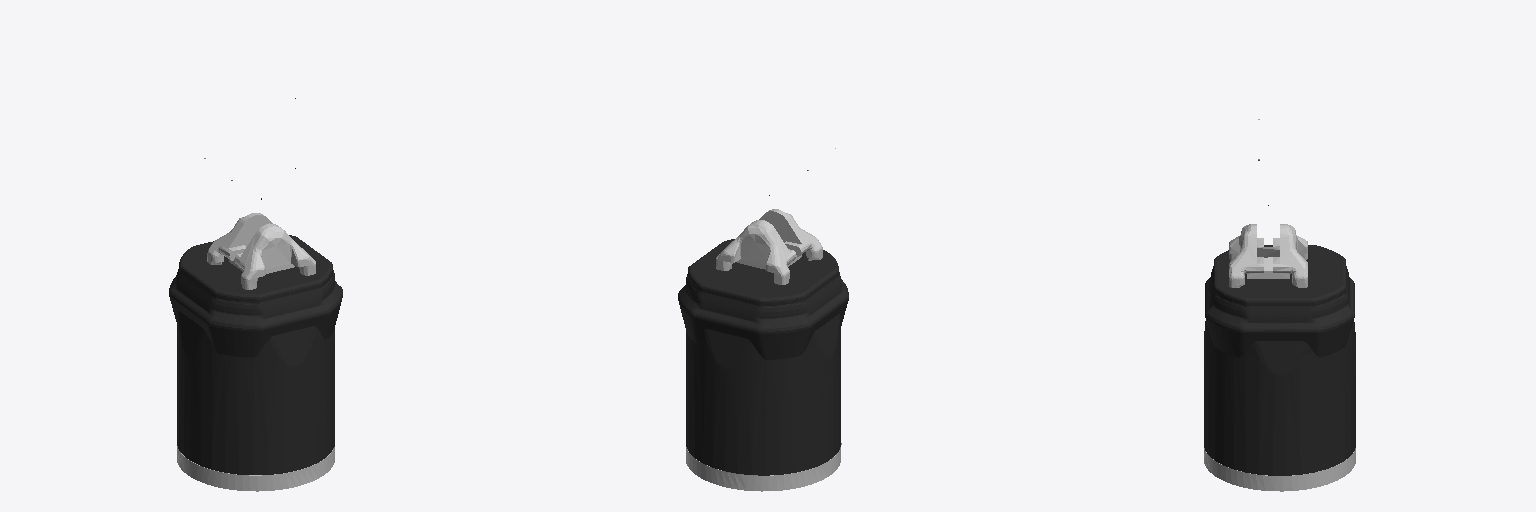
--- What the picture shows (computed from the rendered views, not written in the file) ---
The picture shows the robot from 3 angles, left to right: view 1: azimuth 30°, elevation 25°; view 2: azimuth 150°, elevation 25°; view 3: azimuth 270°, elevation 25°; orthographic projection.
Model shadowhand_motor with 33 links and 32 joints (24 revolute, 8 fixed), rooted at world, posed every joint at zero.
Links seen in each view (by area): view 1: lh_forearm; view 2: lh_forearm; view 3: lh_forearm.
Boxes of the visible links, x1,y1,x2,y2 form: lh_forearm: (169, 213, 342, 491); lh_forearm: (678, 209, 848, 491); lh_forearm: (1204, 224, 1355, 491).
Size in the robot's own frame: 0.1513 by 0.1351 by 0.4162 metres.
Meshes: 11 distinct files referenced, 23 mesh visuals loaded (11 Collada DAE).

URDF robot description (shadowhand_motor):
<?xml version="1.0" ?>
<!-- =================================================================================== -->
<!-- |    This document was autogenerated by xacro from [local-path]/projects/shadow/mujoco_left_hand/base/src/sr_common/sr_description/robots/shadowhand_left_motor_plus.urdf.xacro | -->
<!-- |    EDITING THIS FILE BY HAND IS NOT RECOMMENDED                                 | -->
<!-- =================================================================================== -->
<robot name="shadowhand_motor" xmlns:body="http://playerstage.sourceforge.net/gazebo/xmlschema/#body" xmlns:controller="http://playerstage.sourceforge.net/gazebo/xmlschema/#controller" xmlns:geom="http://playerstage.sourceforge.net/gazebo/xmlschema/#geom" xmlns:interface="http://playerstage.sourceforge.net/gazebo/xmlschema/#interface" xmlns:joint="http://playerstage.sourceforge.net/gazebo/xmlschema/#slider" xmlns:sensor="http://playerstage.sourceforge.net/gazebo/xmlschema/#sensor" xmlns:xacro="http://www.ros.org/wiki/xacro">
  <material name="Blue">
    <color rgba="0.0 0.0 0.8 1.0"/>
  </material>
  <material name="Green">
    <color rgba="0.0 0.8 0.0 1.0"/>
  </material>
  <material name="BiotacGreen">
    <color rgba="0.31 0.85 0.42 1.0"/>
  </material>
  <material name="Grey">
    <color rgba="0.2 0.2 0.2 1.0"/>
  </material>
  <material name="LightGrey">
    <color rgba="0.6 0.6 0.6 1.0"/>
  </material>
  <material name="Red">
    <color rgba="0.8 0.0 0.0 1.0"/>
  </material>
  <material name="White">
    <color rgba="1.0 1.0 1.0 1.0"/>
  </material>
  <gazebo>
    <plugin filename="libgazebo_ros_control.so" name="gazebo_ros_control">
      <robotSimType>sr_gazebo_sim/SrGazeboHWSim</robotSimType>
    </plugin>
  </gazebo>
  <!-- hand with cylindrical base drifts in gazebo, attach it to the world -->
  <link name="world"/>
  <joint name="lh_world_joint" type="fixed">
    <parent link="world"/>
    <child link="lh_forearm"/>
    <origin rpy="0.0 0.0 0.0" xyz="0.0 0.0 0.0"/>
  </joint>
  <link name="lh_forearm">
    <inertial>
      <origin rpy="0 0 0" xyz="0 0 0.09"/>
      <mass value="3.0"/>
      <inertia ixx="0.0138" ixy="0.0" ixz="0.0" iyy="0.0138" iyz="0.0" izz="0.00744"/>
    </inertial>
    <visual>
      <origin rpy="0 0 0" xyz="0 0 0"/>
      <geometry name="lh_forearm_visual">
        <mesh filename="package://sr_description/hand/model/forearm_visual_plus.dae" scale="0.001 0.001 0.001"/>
      </geometry>
      <material name="light_grey"/>
    </visual>
    <collision>
      <origin rpy="0 0 0" xyz="0 0 0"/>
      <geometry name="lh_forearm_collision">
        <mesh filename="package://sr_description/hand/model/forearm_collision_plus.stl" scale="0.001 0.001 0.001"/>
      </geometry>
      <material name="dark_grey">
        <color rgba="0.21961 0.21961 0.21961 1.0"/>
      </material>
    </collision>
    <!-- wrist mount -->
    <collision>
      <origin rpy="0 0.78 0" xyz="0 -0.01 0.181"/>
      <geometry>
        <box size="0.07 0.07 0.07"/>
      </geometry>
    </collision>
  </link>
  <gazebo reference="lh_forearm">
    <selfCollide>false</selfCollide>
  </gazebo>
  <link name="lh_wrist">
    <inertial>
      <origin rpy="0 0 0" xyz="0 0 0.029"/>
      <mass value="0.1"/>
      <inertia ixx="0.000035" ixy="0.0" ixz="0.0" iyy="0.000064" iyz="0.0" izz="0.0000438"/>
    </inertial>
    <visual>
      <origin rpy="0 0 0" xyz="0 0 0"/>
      <geometry name="lh_wrist_visual">
        <mesh filename="package://sr_description/hand/model/wrist.dae" scale="-0.001 0.001 0.001"/>
      </geometry>
      <material name="LightGrey"/>
    </visual>
    <collision>
      <origin rpy="1.5708 1.5708 0" xyz="0 0 0"/>
      <geometry name="lh_wrist_collision_geom">
        <cylinder length="0.030" radius="0.0135"/>
      </geometry>
    </collision>
    <collision>
      <origin rpy="0 1.5708 0" xyz="0.026 0 0.034"/>
      <geometry>
        <cylinder length="0.010" radius="0.011"/>
      </geometry>
    </collision>
    <collision>
      <origin rpy="0 1.5708 0" xyz="-0.031 0 0.034"/>
      <geometry>
        <cylinder length="0.010" radius="0.011"/>
      </geometry>
    </collision>
    <collision>
      <origin rpy="0 -0.7854 0" xyz="0.021 0 0.011"/>
      <geometry>
        <box size="0.027 0.018 0.010"/>
      </geometry>
    </collision>
    <collision>
      <origin rpy="0 0.7854 0" xyz="-0.026 0 0.010"/>
      <geometry>
        <box size="0.027 0.018 0.010"/>
      </geometry>
    </collision>
  </link>
  <gazebo reference="lh_wrist">
    <material>Gazebo/White</material>
    <selfCollide>false</selfCollide>
  </gazebo>
  <joint name="lh_WRJ2" type="revolute">
    <parent link="lh_forearm"/>
    <child link="lh_wrist"/>
    <origin rpy="0 0 0" xyz="0 -0.010 0.213"/>
    <axis xyz="0 -1.0 0"/>
    <limit effort="10.0" lower="-0.523598775598" upper="0.174532925199" velocity="2.0"/>
    <dynamics damping="0.1"/>
  </joint>
  <gazebo reference="lh_WRJ2">
    <provideFeedback>1</provideFeedback>
    <implicitSpringDamper>1</implicitSpringDamper>
  </gazebo>
  <transmission name="lh_wrist_transmission">
    <type>sr_mechanism_model/SimpleTransmission</type>
    <actuator name="lh_WRJ2">
      <mechanicalReduction>1</mechanicalReduction>
    </actuator>
    <joint name="lh_WRJ2">
      <hardwareInterface>hardware_interface/EffortJointInterface</hardwareInterface>
    </joint>
  </transmission>
  <link name="lh_palm">
    <inertial>
      <origin rpy="0 0 0" xyz="0 0 0.035"/>
      <mass value="0.3"/>
      <inertia ixx="0.0003581" ixy="0.0" ixz="0.0" iyy="0.0005287" iyz="0.0" izz="0.000191"/>
    </inertial>
    <visual>
      <origin rpy="0 0 0" xyz="0 0 0"/>
      <geometry name="lh_palm_visual">
        <mesh filename="package://sr_description/hand/model/palm.dae" scale="-0.001 0.001 0.001"/>
      </geometry>
      <material name="Grey"/>
    </visual>
    <collision>
      <origin rpy="0 0 0" xyz="-0.011 0.0085 0.038"/>
      <geometry name="lh_palm_collision_geom">
        <box size="0.062 0.007 0.098"/>
      </geometry>
    </collision>
    <collision>
      <origin rpy="0 0 0" xyz="0.002 -0.0035 0.038"/>
      <geometry>
        <box size="0.036 0.017 0.098"/>
      </geometry>
    </collision>
    <!-- palm complement below first finger -->
    <collision>
      <origin rpy="0 0 0" xyz="-0.029 -0.0035 0.082"/>
      <geometry>
        <box size="0.026 0.017 0.010"/>
      </geometry>
    </collision>
    <collision>
      <origin rpy="0.2 0 -0.25" xyz="-0.0265 -0.001 0.070"/>
      <geometry>
        <box size="0.026 0.014 0.018"/>
      </geometry>
    </collision>
    <!-- thumb pulp side -->
    <collision>
      <origin rpy="0 0 0" xyz="-0.0315 -0.0085 0.001"/>
      <geometry>
        <box size="0.021 0.027 0.024"/>
      </geometry>
    </collision>
    <!-- thumb pulp central -->
    <collision>
      <origin rpy="0 0 0.48" xyz="-0.0125 -0.015 0.009"/>
      <geometry>
        <box size="0.022 0.005 0.040"/>
      </geometry>
    </collision>
    <!-- above middle finger-->
    <collision>
      <origin rpy="0 0 0" xyz="-0.011 0 0.089"/>
      <geometry>
        <box size="0.018 0.024 0.004"/>
      </geometry>
    </collision>
    <!-- metacarpal side-->
    <collision>
      <origin rpy="0 0 0" xyz="0.03 0 0.009"/>
      <geometry>
        <box size="0.020 0.024 0.040"/>
      </geometry>
    </collision>
  </link>
  <joint name="lh_ee_fixed_joint" type="fixed">
    <parent link="lh_palm"/>
    <child link="lh_manipulator"/>
    <origin rpy="0.0 0.0 0.0" xyz="0.0 0.0 0.05"/>
  </joint>
  <link name="lh_manipulator"/>
  <joint name="lh_WRJ1" type="revolute">
    <parent link="lh_wrist"/>
    <child link="lh_palm"/>
    <origin rpy="0 0 0" xyz="0 0 0.034"/>
    <axis xyz="1 0 0"/>
    <limit effort="5.0" lower="-0.698131700798" upper="0.488692190558" velocity="2.0"/>
    <dynamics damping="0.1"/>
  </joint>
  <gazebo reference="lh_WRJ1">
    <provideFeedback>1</provideFeedback>
    <implicitSpringDamper>1</implicitSpringDamper>
  </gazebo>
  <link name="lh_imu"/>
  <joint name="lh_palm_to_imu" type="fixed">
    <parent link="lh_palm"/>
    <child link="lh_imu"/>
    <origin rpy="-1.5707963 3.141592 0.0" xyz="0.01785 0.00765 0.049125"/>
  </joint>
  <sensor name="lh_imu" update_rate="100">
    <parent link="lh_imu"/>
    <origin rpy="0 0 0" xyz="0 0 0"/>
  </sensor>
  <transmission name="lh_palm_transmission">
    <type>sr_mechanism_model/SimpleTransmission</type>
    <actuator name="lh_WRJ1">
      <mechanicalReduction>1</mechanicalReduction>
    </actuator>
    <joint name="lh_WRJ1">
      <hardwareInterface>hardware_interface/EffortJointInterface</hardwareInterface>
    </joint>
  </transmission>
  <!-- prefix can be anything but usually is "r_" or  "l_" for right and left hands distinction -->
  <gazebo reference="lh_palm">
    <sensor name="lh_palm_contact" type="contact">
      <always_on>1</always_on>
      <update_rate>1000.0</update_rate>
      <contact>
        <collision>lh_palm_collision</collision>
        <topic>lh_palm_collision</topic>
      </contact>
      <plugin filename="libgazebo_ros_bumper.so" name="lh_palm_gazebo_ros_bumper_controller">
        <alwaysOn>true</alwaysOn>
        <frameName>lh_palm</frameName>
        <updateRate>100.0</updateRate>
        <bumperTopicName>contacts/lh_palm</bumperTopicName>
      </plugin>
    </sensor>
  </gazebo>
  <link name="lh_ffknuckle">
    <inertial>
      <origin rpy="0 0 0" xyz="0 0 0"/>
      <mass value="0.008"/>
      <inertia ixx="0.00000026" ixy="0.0" ixz="0.0" iyy="0.00000026" iyz="0.0" izz="0.00000032"/>
    </inertial>
    <visual>
      <origin rpy="0 0 0" xyz="0 0 0.0005"/>
      <geometry name="lh_ffknuckle_visual">
        <mesh filename="package://sr_description/hand/model/knuckle.dae" scale="0.001 0.001 0.001"/>
      </geometry>
      <material name="LightGrey"/>
    </visual>
    <collision>
      <origin rpy="0 1.5708 0" xyz="0 0 0"/>
      <geometry name="lh_ffknuckle_collision_geom">
        <cylinder length="0.014" radius="0.007"/>
      </geometry>
    </collision>
  </link>
  <joint name="lh_FFJ4" type="revolute">
    <parent link="lh_palm"/>
    <child link="lh_ffknuckle"/>
    <!--<origin xyz="0.033 0 0.095" rpy="0 0 0" />-->
    <origin rpy="0 0 0" xyz="-0.033 0 0.095"/>
    <axis xyz="0 1.0 0"/>
    <limit effort="4.0" lower="-0.349065850399" upper="0.349065850399" velocity="2.0"/>
    <dynamics damping="0.1"/>
  </joint>
  <gazebo reference="lh_FFJ4">
    <provideFeedback>1</provideFeedback>
    <implicitSpringDamper>1</implicitSpringDamper>
  </gazebo>
  <transmission name="lh_ffknuckle_transmission">
    <type>sr_mechanism_model/SimpleTransmission</type>
    <actuator name="lh_FFJ4">
      <mechanicalReduction>1</mechanicalReduction>
    </actuator>
    <joint name="lh_FFJ4">
      <hardwareInterface>hardware_interface/EffortJointInterface</hardwareInterface>
    </joint>
  </transmission>
  <!-- prefix can be anything but usually is "r_" or  "l_" for right and left hands distinction -->
  <gazebo reference="lh_ffknuckle">
    <sensor name="lh_ffknuckle_contact" type="contact">
      <always_on>1</always_on>
      <update_rate>1000.0</update_rate>
      <contact>
        <collision>lh_ffknuckle_collision</collision>
        <topic>lh_ffknuckle_collision</topic>
      </contact>
      <plugin filename="libgazebo_ros_bumper.so" name="lh_ffknuckle_gazebo_ros_bumper_controller">
        <alwaysOn>true</alwaysOn>
        <frameName>lh_ffknuckle</frameName>
        <updateRate>100.0</updateRate>
        <bumperTopicName>contacts/lh_ff/knuckle</bumperTopicName>
      </plugin>
    </sensor>
    <material>Gazebo/Grey</material>
  </gazebo>
  <link name="lh_ffproximal">
    <inertial>
      <mass value="0.030"/>
      <origin xyz="0 0 0.0225"/>
      <inertia ixx="0.0000098" ixy="0.0" ixz="0.0" iyy="0.00001" iyz="0.0" izz="0.0000018"/>
    </inertial>
    <visual>
      <origin rpy="0 0 0" xyz="0 0 0"/>
      <geometry name="lh_ffproximal_visual">
        <mesh filename="package://sr_description/hand/model/F3.dae" scale="0.001 0.001 0.001"/>
      </geometry>
      <material name="Grey"/>
    </visual>
    <collision>
      <origin rpy="0 0 0" xyz="0 0 0.025"/>
      <geometry name="lh_ffproximal_collision_geom">
        <cylinder length="0.040" radius="0.007"/>
      </geometry>
    </collision>
  </link>
  <joint name="lh_FFJ3" type="revolute">
    <parent link="lh_ffknuckle"/>
    <child link="lh_ffproximal"/>
    <origin rpy="0 0 0" xyz="0 0 0"/>
    <axis xyz="1 0 0"/>
    <limit effort="4.0" lower="0" upper="1.57079632679" velocity="2.0"/>
    <dynamics damping="0.1"/>
  </joint>
  <gazebo reference="lh_FFJ3">
    <provideFeedback>1</provideFeedback>
    <implicitSpringDamper>1</implicitSpringDamper>
  </gazebo>
  <transmission name="lh_ffproximal_transmission">
    <type>sr_mechanism_model/SimpleTransmission</type>
    <actuator name="lh_FFJ3">
      <mechanicalReduction>1</mechanicalReduction>
    </actuator>
    <joint name="lh_FFJ3">
      <hardwareInterface>hardware_interface/EffortJointInterface</hardwareInterface>
    </joint>
  </transmission>
  <!-- prefix can be anything but usually is "r_" or  "l_" for right and left hands distinction -->
  <gazebo reference="lh_ffproximal">
    <sensor name="lh_ffproximal_contact" type="contact">
      <always_on>1</always_on>
      <update_rate>1000.0</update_rate>
      <contact>
        <collision>lh_ffproximal_collision</collision>
        <topic>lh_ffproximal_collision</topic>
      </contact>
      <plugin filename="libgazebo_ros_bumper.so" name="lh_ffproximal_gazebo_ros_bumper_controller">
        <alwaysOn>true</alwaysOn>
        <frameName>lh_ffproximal</frameName>
        <updateRate>100.0</updateRate>
        <bumperTopicName>contacts/lh_ff/proximal</bumperTopicName>
      </plugin>
    </sensor>
    <selfCollide>true</selfCollide>
  </gazebo>
  <link name="lh_ffmiddle">
    <inertial>
      <origin rpy="0 0 0" xyz="0 0 0.0125"/>
      <mass value="0.017"/>
      <inertia ixx="0.0000026" ixy="0.0" ixz="0.0" iyy="0.0000027" iyz="0.0" izz="0.00000087"/>
    </inertial>
    <visual>
      <origin rpy="0 0 0" xyz="0 0 0"/>
      <geometry name="lh_ffmiddle_visual">
        <mesh filename="package://sr_description/hand/model/F2.dae" scale="0.001 0.001 0.001"/>
      </geometry>
      <material name="Grey"/>
    </visual>
    <collision>
      <origin rpy="0 0 0" xyz="0 0 0.0125"/>
      <geometry name="lh_ffmiddle_collision_geom">
        <cylinder length="0.025" radius="0.007"/>
      </geometry>
    </collision>
    <collision>
      <origin rpy="0 0 0" xyz="0 0 0.0"/>
      <geometry>
        <sphere radius="0.007"/>
      </geometry>
    </collision>
    <collision>
      <origin rpy="0 0 0" xyz="0 0 0.025"/>
      <geometry>
        <sphere radius="0.007"/>
      </geometry>
    </collision>
  </link>
  <joint name="lh_FFJ2" type="revolute">
    <parent link="lh_ffproximal"/>
    <child link="lh_ffmiddle"/>
    <origin rpy="0 0 0" xyz="0 0 0.045"/>
    <axis xyz="1 0 0"/>
    <limit effort="4.0" lower="0" upper="1.57079632679" velocity="2.0"/>
    <dynamics damping="0.1"/>
  </joint>
  <gazebo reference="lh_FFJ2">
    <provideFeedback>1</provideFeedback>
    <implicitSpringDamper>1</implicitSpringDamper>
  </gazebo>
  <transmission name="lh_ffmiddle_transmission">
    <type>sr_mechanism_model/SimpleTransmission</type>
    <actuator name="lh_FFJ2">
      <mechanicalReduction>1</mechanicalReduction>
    </actuator>
    <joint name="lh_FFJ2">
      <hardwareInterface>hardware_interface/EffortJointInterface</hardwareInterface>
    </joint>
    <!-- <joint name="lh_FFJ1">
      <hardwareInterface>hardware_interface/EffortJointInterface</hardwareInterface>
    </joint> -->
  </transmission>
  <!-- prefix can be anything but usually is "r_" or  "l_" for right and left hands distinction -->
  <gazebo reference="lh_ffmiddle">
    <sensor name="lh_ffmiddle_contact" type="contact">
      <always_on>1</always_on>
      <update_rate>1000.0</update_rate>
      <contact>
        <collision>lh_ffmiddle_collision</collision>
        <topic>lh_ffmiddle_collision</topic>
      </contact>
      <plugin filename="libgazebo_ros_bumper.so" name="lh_ffproximal_gazebo_ros_bumper_controller">
        <alwaysOn>true</alwaysOn>
        <frameName>lh_ffmiddle</frameName>
        <updateRate>100.0</updateRate>
        <bumperTopicName>contacts/lh_ff/middle</bumperTopicName>
      </plugin>
    </sensor>
    <selfCollide>true</selfCollide>
  </gazebo>
  <link name="lh_ffdistal">
    <inertial>
      <mass value="0.012"/>
      <origin xyz="0 0 0.012"/>
      <inertia ixx="0.00000094" ixy="0.0" ixz="0.0" iyy="0.0000011" iyz="0.0" izz="0.00000053"/>
    </inertial>
    <visual>
      <origin rpy="0 0 0" xyz="0 0 0"/>
      <geometry name="lh_ffdistal_visual">
        <!-- Standard distal  -->
        <mesh filename="package://sr_description/hand/model/F1.dae" scale="0.001 0.001 0.001"/>
      </geometry>
      <material name="Grey"/>
    </visual>
    <collision>
      <origin rpy="0 0 0" xyz="0 0 0"/>
      <geometry name="lh_ffdistal_collision_geom">
        <!-- Standard distal  -->
        <mesh filename="package://sr_description/hand/model/F1.dae" scale="0.001 0.001 0.001"/>
      </geometry>
    </collision>
  </link>
  <joint name="lh_FFJ1" type="revolute">
    <parent link="lh_ffmiddle"/>
    <child link="lh_ffdistal"/>
    <origin rpy="0 0 0" xyz="0 0 0.025"/>
    <axis xyz="1 0 0"/>
    <!-- standard distal joint -->
    <limit effort="4.0" lower="0" upper="1.57079632679" velocity="2.0"/>
    <dynamics damping="0.1"/>
  </joint>
  <gazebo reference="lh_FFJ1">
    <provideFeedback>1</provideFeedback>
    <implicitSpringDamper>1</implicitSpringDamper>
  </gazebo>
  <link name="lh_fftip">
    <inertial>
      <mass value="0.001"/>
      <inertia ixx="0.0" ixy="0.0" ixz="0.0" iyy="0.0" iyz="0.0" izz="0.0"/>
    </inertial>
  </link>
  <joint name="lh_FFtip" type="fixed">
    <parent link="lh_ffdistal"/>
    <child link="lh_fftip"/>
    <origin rpy="0 0 0" xyz="0 0 0.026"/>
  </joint>
  <transmission name="lh_ffdistal_transmission">
    <type>sr_mechanism_model/SimpleTransmission</type>
    <actuator name="lh_FFJ1">
      <mechanicalReduction>1</mechanicalReduction>
    </actuator>
    <joint name="lh_FFJ1">
      <hardwareInterface>hardware_interface/EffortJointInterface</hardwareInterface>
    </joint>
  </transmission>
  <!-- prefix can be anything but usually is "r_" or  "l_" for right and left hands distinction -->
  <gazebo reference="lh_ffdistal">
    <sensor name="lh_ffdistal_contact" type="contact">
      <always_on>1</always_on>
      <update_rate>1000.0</update_rate>
      <contact>
        <collision>lh_ffdistal_collision</collision>
        <topic>lh_ffdistal_collision</topic>
      </contact>
      <plugin filename="libgazebo_ros_bumper.so" name="lh_ffdistal_gazebo_ros_bumper_controller">
        <alwaysOn>true</alwaysOn>
        <frameName>lh_ffdistal</frameName>
        <updateRate>100.0</updateRate>
        <bumperTopicName>contacts/lh_ff/distal</bumperTopicName>
      </plugin>
    </sensor>
    <mu1 value="500.0"/>
    <mu2 value="500.0"/>
    <kp value="10000000.0"/>
    <kd value="1.0"/>
    <selfCollide>true</selfCollide>
  </gazebo>
  <link name="lh_mfknuckle">
    <inertial>
      <origin rpy="0 0 0" xyz="0 0 0"/>
      <mass value="0.008"/>
      <inertia ixx="0.00000026" ixy="0.0" ixz="0.0" iyy="0.00000026" iyz="0.0" izz="0.00000032"/>
    </inertial>
    <visual>
      <origin rpy="0 0 0" xyz="0 0 0.0005"/>
      <geometry name="lh_mfknuckle_visual">
        <mesh filename="package://sr_description/hand/model/knuckle.dae" scale="0.001 0.001 0.001"/>
      </geometry>
      <material name="LightGrey"/>
    </visual>
    <collision>
      <origin rpy="0 1.5708 0" xyz="0 0 0"/>
      <geometry name="lh_mfknuckle_collision_geom">
        <cylinder length="0.014" radius="0.007"/>
      </geometry>
    </collision>
  </link>
  <joint name="lh_MFJ4" type="revolute">
    <parent link="lh_palm"/>
    <child link="lh_mfknuckle"/>
    <!--<origin xyz="0.033 0 0.095" rpy="0 0 0" />-->
    <origin rpy="0 0 0" xyz="-0.011 0 0.099"/>
    <axis xyz="0 1.0 0"/>
    <limit effort="4.0" lower="-0.349065850399" upper="0.349065850399" velocity="2.0"/>
    <dynamics damping="0.1"/>
  </joint>
  <gazebo reference="lh_MFJ4">
    <provideFeedback>1</provideFeedback>
    <implicitSpringDamper>1</implicitSpringDamper>
  </gazebo>
  <transmission name="lh_mfknuckle_transmission">
    <type>sr_mechanism_model/SimpleTransmission</type>
    <actuator name="lh_MFJ4">
      <mechanicalReduction>1</mechanicalReduction>
    </actuator>
    <joint name="lh_MFJ4">
      <hardwareInterface>hardware_interface/EffortJointInterface</hardwareInterface>
    </joint>
  </transmission>
  <!-- prefix can be anything but usually is "r_" or  "l_" for right and left hands distinction -->
  <gazebo reference="lh_mfknuckle">
    <sensor name="lh_mfknuckle_contact" type="contact">
      <always_on>1</always_on>
      <update_rate>1000.0</update_rate>
      <contact>
        <collision>lh_mfknuckle_collision</collision>
        <topic>lh_mfknuckle_collision</topic>
      </contact>
      <plugin filename="libgazebo_ros_bumper.so" name="lh_mfknuckle_gazebo_ros_bumper_controller">
        <alwaysOn>true</alwaysOn>
        <frameName>lh_mfknuckle</frameName>
        <updateRate>100.0</updateRate>
        <bumperTopicName>contacts/lh_mf/knuckle</bumperTopicName>
      </plugin>
    </sensor>
    <material>Gazebo/Grey</material>
  </gazebo>
  <link name="lh_mfproximal">
    <inertial>
      <mass value="0.030"/>
      <origin xyz="0 0 0.0225"/>
      <inertia ixx="0.0000098" ixy="0.0" ixz="0.0" iyy="0.00001" iyz="0.0" izz="0.0000018"/>
    </inertial>
    <visual>
      <origin rpy="0 0 0" xyz="0 0 0"/>
      <geometry name="lh_mfproximal_visual">
        <mesh filename="package://sr_description/hand/model/F3.dae" scale="0.001 0.001 0.001"/>
      </geometry>
      <material name="Grey"/>
    </visual>
    <collision>
      <origin rpy="0 0 0" xyz="0 0 0.025"/>
      <geometry name="lh_mfproximal_collision_geom">
        <cylinder length="0.040" radius="0.007"/>
      </geometry>
    </collision>
  </link>
  <joint name="lh_MFJ3" type="revolute">
    <parent link="lh_mfknuckle"/>
    <child link="lh_mfproximal"/>
    <origin rpy="0 0 0" xyz="0 0 0"/>
    <axis xyz="1 0 0"/>
    <limit effort="4.0" lower="0" upper="1.57079632679" velocity="2.0"/>
    <dynamics damping="0.1"/>
  </joint>
  <gazebo reference="lh_MFJ3">
    <provideFeedback>1</provideFeedback>
    <implicitSpringDamper>1</implicitSpringDamper>
  </gazebo>
  <transmission name="lh_mfproximal_transmission">
    <type>sr_mechanism_model/SimpleTransmission</type>
    <actuator name="lh_MFJ3">
      <mechanicalReduction>1</mechanicalReduction>
    </actuator>
    <joint name="lh_MFJ3">
      <hardwareInterface>hardware_interface/EffortJointInterface</hardwareInterface>
    </joint>
  </transmission>
  <!-- prefix can be anything but usually is "r_" or  "l_" for right and left hands distinction -->
  <gazebo reference="lh_mfproximal">
    <sensor name="lh_mfproximal_contact" type="contact">
      <always_on>1</always_on>
      <update_rate>1000.0</update_rate>
      <contact>
        <collision>lh_mfproximal_collision</collision>
        <topic>lh_mfproximal_collision</topic>
      </contact>
      <plugin filename="libgazebo_ros_bumper.so" name="lh_mfproximal_gazebo_ros_bumper_controller">
        <alwaysOn>true</alwaysOn>
        <frameName>lh_mfproximal</frameName>
        <updateRate>100.0</updateRate>
        <bumperTopicName>contacts/lh_mf/proximal</bumperTopicName>
      </plugin>
    </sensor>
    <selfCollide>true</selfCollide>
  </gazebo>
  <link name="lh_mfmiddle">
    <inertial>
      <origin rpy="0 0 0" xyz="0 0 0.0125"/>
      <mass value="0.017"/>
      <inertia ixx="0.0000026" ixy="0.0" ixz="0.0" iyy="0.0000027" iyz="0.0" izz="0.00000087"/>
    </inertial>
    <visual>
      <origin rpy="0 0 0" xyz="0 0 0"/>
      <geometry name="lh_mfmiddle_visual">
        <mesh filename="package://sr_description/hand/model/F2.dae" scale="0.001 0.001 0.001"/>
      </geometry>
      <material name="Grey"/>
    </visual>
    <collision>
      <origin rpy="0 0 0" xyz="0 0 0.0125"/>
      <geometry name="lh_mfmiddle_collision_geom">
        <cylinder length="0.025" radius="0.007"/>
      </geometry>
    </collision>
    <collision>
      <origin rpy="0 0 0" xyz="0 0 0.0"/>
      <geometry>
        <sphere radius="0.007"/>
      </geometry>
    </collision>
    <collision>
      <origin rpy="0 0 0" xyz="0 0 0.025"/>
      <geometry>
        <sphere radius="0.007"/>
      </geometry>
    </collision>
  </link>
  <joint name="lh_MFJ2" type="revolute">
    <parent link="lh_mfproximal"/>
    <child link="lh_mfmiddle"/>
    <origin rpy="0 0 0" xyz="0 0 0.045"/>
    <axis xyz="1 0 0"/>
    <limit effort="4.0" lower="0" upper="1.57079632679" velocity="2.0"/>
    <dynamics damping="0.1"/>
  </joint>
  <gazebo reference="lh_MFJ2">
    <provideFeedback>1</provideFeedback>
    <implicitSpringDamper>1</implicitSpringDamper>
  </gazebo>
  <transmission name="lh_mfmiddle_transmission">
    <type>sr_mechanism_model/SimpleTransmission</type>
    <actuator name="lh_MFJ2">
      <mechanicalReduction>1</mechanicalReduction>
    </actuator>
    <joint name="lh_MFJ2">
      <hardwareInterface>hardware_interface/EffortJointInterface</hardwareInterface>
    </joint>
  </transmission>
  <!-- prefix can be anything but usually is "r_" or  "l_" for right and left hands distinction -->
  <gazebo reference="lh_mfmiddle">
    <sensor name="lh_mfmiddle_contact" type="contact">
      <always_on>1</always_on>
      <update_rate>1000.0</update_rate>
      <contact>
        <collision>lh_mfmiddle_collision</collision>
        <topic>lh_mfmiddle_collision</topic>
      </contact>
      <plugin filename="libgazebo_ros_bumper.so" name="lh_mfproximal_gazebo_ros_bumper_controller">
        <alwaysOn>true</alwaysOn>
        <frameName>lh_mfmiddle</frameName>
        <updateRate>100.0</updateRate>
        <bumperTopicName>contacts/lh_mf/middle</bumperTopicName>
      </plugin>
    </sensor>
    <selfCollide>true</selfCollide>
  </gazebo>
  <link name="lh_mfdistal">
    <inertial>
      <mass value="0.012"/>
      <origin xyz="0 0 0.012"/>
      <inertia ixx="0.00000094" ixy="0.0" ixz="0.0" iyy="0.0000011" iyz="0.0" izz="0.00000053"/>
    </inertial>
    <visual>
      <origin rpy="0 0 0" xyz="0 0 0"/>
      <geometry name="lh_mfdistal_visual">
        <!-- Standard distal  -->
        <mesh filename="package://sr_description/hand/model/F1.dae" scale="0.001 0.001 0.001"/>
      </geometry>
      <material name="Grey"/>
    </visual>
    <collision>
      <origin rpy="0 0 0" xyz="0 0 0"/>
      <geometry name="lh_mfdistal_collision_geom">
        <!-- Standard distal  -->
        <mesh filename="package://sr_description/hand/model/F1.dae" scale="0.001 0.001 0.001"/>
      </geometry>
    </collision>
  </link>
  <joint name="lh_MFJ1" type="revolute">
    <parent link="lh_mfmiddle"/>
    <child link="lh_mfdistal"/>
    <origin rpy="0 0 0" xyz="0 0 0.025"/>
    <axis xyz="1 0 0"/>
    <!-- standard distal joint -->
    <limit effort="4.0" lower="0" upper="1.57079632679" velocity="2.0"/>
    <dynamics damping="0.1"/>
  </joint>
  <gazebo reference="lh_MFJ1">
    <provideFeedback>1</provideFeedback>
    <implicitSpringDamper>1</implicitSpringDamper>
  </gazebo>
  <link name="lh_mftip">
    <inertial>
      <mass value="0.001"/>
      <inertia ixx="0.0" ixy="0.0" ixz="0.0" iyy="0.0" iyz="0.0" izz="0.0"/>
    </inertial>
  </link>
  <joint name="lh_MFtip" type="fixed">
    <parent link="lh_mfdistal"/>
    <child link="lh_mftip"/>
    <origin rpy="0 0 0" xyz="0 0 0.026"/>
  </joint>
  <transmission name="lh_mfdistal_transmission">
    <type>sr_mechanism_model/SimpleTransmission</type>
    <actuator name="lh_MFJ1">
      <mechanicalReduction>1</mechanicalReduction>
    </actuator>
    <joint name="lh_MFJ1">
      <hardwareInterface>hardware_interface/EffortJointInterface</hardwareInterface>
    </joint>
  </transmission>
  <!-- prefix can be anything but usually is "r_" or  "l_" for right and left hands distinction -->
  <gazebo reference="lh_mfdistal">
    <sensor name="lh_mfdistal_contact" type="contact">
      <always_on>1</always_on>
      <update_rate>1000.0</update_rate>
      <contact>
        <collision>lh_mfdistal_collision</collision>
        <topic>lh_mfdistal_collision</topic>
      </contact>
      <plugin filename="libgazebo_ros_bumper.so" name="lh_mfdistal_gazebo_ros_bumper_controller">
        <alwaysOn>true</alwaysOn>
        <frameName>lh_mfdistal</frameName>
        <updateRate>100.0</updateRate>
        <bumperTopicName>contacts/lh_mf/distal</bumperTopicName>
      </plugin>
    </sensor>
    <mu1 value="500.0"/>
    <mu2 value="500.0"/>
    <kp value="10000000.0"/>
    <kd value="1.0"/>
    <selfCollide>true</selfCollide>
  </gazebo>
  <link name="lh_rfknuckle">
    <inertial>
      <origin rpy="0 0 0" xyz="0 0 0"/>
      <mass value="0.008"/>
      <inertia ixx="0.00000026" ixy="0.0" ixz="0.0" iyy="0.00000026" iyz="0.0" izz="0.00000032"/>
    </inertial>
    <visual>
      <origin rpy="0 0 0" xyz="0 0 0.0005"/>
      <geometry name="lh_rfknuckle_visual">
        <mesh filename="package://sr_description/hand/model/knuckle.dae" scale="0.001 0.001 0.001"/>
      </geometry>
      <material name="LightGrey"/>
    </visual>
    <collision>
      <origin rpy="0 1.5708 0" xyz="0 0 0"/>
      <geometry name="lh_rfknuckle_collision_geom">
        <cylinder length="0.014" radius="0.007"/>
      </geometry>
    </collision>
  </link>
  <joint name="lh_RFJ4" type="revolute">
    <parent link="lh_palm"/>
    <child link="lh_rfknuckle"/>
    <!--<origin xyz="0.033 0 0.095" rpy="0 0 0" />-->
    <origin rpy="0 0 0" xyz="0.011 0 0.095"/>
    <axis xyz="0 -1.0 0"/>
    <limit effort="4.0" lower="-0.349065850399" upper="0.349065850399" velocity="2.0"/>
    <dynamics damping="0.1"/>
  </joint>
  <gazebo reference="lh_RFJ4">
    <provideFeedback>1</provideFeedback>
    <implicitSpringDamper>1</implicitSpringDamper>
  </gazebo>
  <transmission name="lh_rfknuckle_transmission">
    <type>sr_mechanism_model/SimpleTransmission</type>
    <actuator name="lh_RFJ4">
      <mechanicalReduction>1</mechanicalReduction>
    </actuator>
    <joint name="lh_RFJ4">
      <hardwareInterface>hardware_interface/EffortJointInterface</hardwareInterface>
    </joint>
  </transmission>
  <!-- prefix can be anything but usually is "r_" or  "l_" for right and left hands distinction -->
  <gazebo reference="lh_rfknuckle">
    <sensor name="lh_rfknuckle_contact" type="contact">
      <always_on>1</always_on>
      <update_rate>1000.0</update_rate>
      <contact>
        <collision>lh_rfknuckle_collision</collision>
        <topic>lh_rfknuckle_collision</topic>
      </contact>
      <plugin filename="libgazebo_ros_bumper.so" name="lh_rfknuckle_gazebo_ros_bumper_controller">
        <alwaysOn>true</alwaysOn>
        <frameName>lh_rfknuckle</frameName>
        <updateRate>100.0</updateRate>
        <bumperTopicName>contacts/lh_rf/knuckle</bumperTopicName>
      </plugin>
    </sensor>
    <material>Gazebo/Grey</material>
  </gazebo>
  <link name="lh_rfproximal">
    <inertial>
      <mass value="0.030"/>
      <origin xyz="0 0 0.0225"/>
      <inertia ixx="0.0000098" ixy="0.0" ixz="0.0" iyy="0.00001" iyz="0.0" izz="0.0000018"/>
    </inertial>
    <visual>
      <origin rpy="0 0 0" xyz="0 0 0"/>
      <geometry name="lh_rfproximal_visual">
        <mesh filename="package://sr_description/hand/model/F3.dae" scale="0.001 0.001 0.001"/>
      </geometry>
      <material name="Grey"/>
    </visual>
    <collision>
      <origin rpy="0 0 0" xyz="0 0 0.025"/>
      <geometry name="lh_rfproximal_collision_geom">
        <cylinder length="0.040" radius="0.007"/>
      </geometry>
    </collision>
  </link>
  <joint name="lh_RFJ3" type="revolute">
    <parent link="lh_rfknuckle"/>
    <child link="lh_rfproximal"/>
    <origin rpy="0 0 0" xyz="0 0 0"/>
    <axis xyz="1 0 0"/>
    <limit effort="4.0" lower="0" upper="1.57079632679" velocity="2.0"/>
    <dynamics damping="0.1"/>
  </joint>
  <gazebo reference="lh_RFJ3">
    <provideFeedback>1</provideFeedback>
    <implicitSpringDamper>1</implicitSpringDamper>
  </gazebo>
  <transmission name="lh_rfproximal_transmission">
    <type>sr_mechanism_model/SimpleTransmission</type>
    <actuator name="lh_RFJ3">
      <mechanicalReduction>1</mechanicalReduction>
    </actuator>
    <joint name="lh_RFJ3">
      <hardwareInterface>hardware_interface/EffortJointInterface</hardwareInterface>
    </joint>
  </transmission>
  <!-- prefix can be anything but usually is "r_" or  "l_" for right and left hands distinction -->
  <gazebo reference="lh_rfproximal">
    <sensor name="lh_rfproximal_contact" type="contact">
      <always_on>1</always_on>
      <update_rate>1000.0</update_rate>
      <contact>
        <collision>lh_rfproximal_collision</collision>
        <topic>lh_rfproximal_collision</topic>
      </contact>
      <plugin filename="libgazebo_ros_bumper.so" name="lh_rfproximal_gazebo_ros_bumper_controller">
        <alwaysOn>true</alwaysOn>
        <frameName>lh_rfproximal</frameName>
        <updateRate>100.0</updateRate>
        <bumperTopicName>contacts/lh_rf/proximal</bumperTopicName>
      </plugin>
    </sensor>
    <selfCollide>true</selfCollide>
  </gazebo>
  <link name="lh_rfmiddle">
    <inertial>
      <origin rpy="0 0 0" xyz="0 0 0.0125"/>
      <mass value="0.017"/>
      <inertia ixx="0.0000026" ixy="0.0" ixz="0.0" iyy="0.0000027" iyz="0.0" izz="0.00000087"/>
    </inertial>
    <visual>
      <origin rpy="0 0 0" xyz="0 0 0"/>
      <geometry name="lh_rfmiddle_visual">
        <mesh filename="package://sr_description/hand/model/F2.dae" scale="0.001 0.001 0.001"/>
      </geometry>
      <material name="Grey"/>
    </visual>
    <collision>
      <origin rpy="0 0 0" xyz="0 0 0.0125"/>
      <geometry name="lh_rfmiddle_collision_geom">
        <cylinder length="0.025" radius="0.007"/>
      </geometry>
    </collision>
    <collision>
      <origin rpy="0 0 0" xyz="0 0 0.0"/>
      <geometry>
        <sphere radius="0.007"/>
      </geometry>
    </collision>
    <collision>
      <origin rpy="0 0 0" xyz="0 0 0.025"/>
      <geometry>
        <sphere radius="0.007"/>
      </geometry>
    </collision>
  </link>
  <joint name="lh_RFJ2" type="revolute">
    <parent link="lh_rfproximal"/>
    <child link="lh_rfmiddle"/>
    <origin rpy="0 0 0" xyz="0 0 0.045"/>
    <axis xyz="1 0 0"/>
    <limit effort="4.0" lower="0" upper="1.57079632679" velocity="2.0"/>
    <dynamics damping="0.1"/>
  </joint>
  <gazebo reference="lh_RFJ2">
    <provideFeedback>1</provideFeedback>
    <implicitSpringDamper>1</implicitSpringDamper>
  </gazebo>
  <transmission name="lh_rfmiddle_transmission">
    <type>sr_mechanism_model/SimpleTransmission</type>
    <actuator name="lh_RFJ2">
      <mechanicalReduction>1</mechanicalReduction>
    </actuator>
    <joint name="lh_RFJ2">
      <hardwareInterface>hardware_interface/EffortJointInterface</hardwareInterface>
    </joint>
    <!-- <secondJoint name="${prefix}${joint_prefix}J2"/> -->
  </transmission>
  <!-- prefix can be anything but usually is "r_" or  "l_" for right and left hands distinction -->
  <gazebo reference="lh_rfmiddle">
    <sensor name="lh_rfmiddle_contact" type="contact">
      <always_on>1</always_on>
      <update_rate>1000.0</update_rate>
      <contact>
        <collision>lh_rfmiddle_collision</collision>
        <topic>lh_rfmiddle_collision</topic>
      </contact>
      <plugin filename="libgazebo_ros_bumper.so" name="lh_rfproximal_gazebo_ros_bumper_controller">
        <alwaysOn>true</alwaysOn>
        <frameName>lh_rfmiddle</frameName>
        <updateRate>100.0</updateRate>
        <bumperTopicName>contacts/lh_rf/middle</bumperTopicName>
      </plugin>
    </sensor>
    <selfCollide>true</selfCollide>
  </gazebo>
  <link name="lh_rfdistal">
    <inertial>
      <mass value="0.012"/>
      <origin xyz="0 0 0.012"/>
      <inertia ixx="0.00000094" ixy="0.0" ixz="0.0" iyy="0.0000011" iyz="0.0" izz="0.00000053"/>
    </inertial>
    <visual>
      <origin rpy="0 0 0" xyz="0 0 0"/>
      <geometry name="lh_rfdistal_visual">
        <!-- Standard distal  -->
        <mesh filename="package://sr_description/hand/model/F1.dae" scale="0.001 0.001 0.001"/>
      </geometry>
      <material name="Grey"/>
    </visual>
    <collision>
      <origin rpy="0 0 0" xyz="0 0 0"/>
      <geometry name="lh_rfdistal_collision_geom">
        <!-- Standard distal  -->
        <mesh filename="package://sr_description/hand/model/F1.dae" scale="0.001 0.001 0.001"/>
      </geometry>
    </collision>
  </link>
  <joint name="lh_RFJ1" type="revolute">
    <parent link="lh_rfmiddle"/>
    <child link="lh_rfdistal"/>
    <origin rpy="0 0 0" xyz="0 0 0.025"/>
    <axis xyz="1 0 0"/>
    <!-- standard distal joint -->
    <limit effort="4.0" lower="0" upper="1.57079632679" velocity="2.0"/>
    <dynamics damping="0.1"/>
  </joint>
  <gazebo reference="lh_RFJ1">
    <provideFeedback>1</provideFeedback>
    <implicitSpringDamper>1</implicitSpringDamper>
  </gazebo>
  <link name="lh_rftip">
    <inertial>
      <mass value="0.001"/>
      <inertia ixx="0.0" ixy="0.0" ixz="0.0" iyy="0.0" iyz="0.0" izz="0.0"/>
    </inertial>
  </link>
  <joint name="lh_RFtip" type="fixed">
    <parent link="lh_rfdistal"/>
    <child link="lh_rftip"/>
    <origin rpy="0 0 0" xyz="0 0 0.026"/>
  </joint>
  <transmission name="lh_rfdistal_transmission">
    <type>sr_mechanism_model/SimpleTransmission</type>
    <actuator name="lh_RFJ1">
      <mechanicalReduction>1</mechanicalReduction>
    </actuator>
    <joint name="lh_RFJ1">
      <hardwareInterface>hardware_interface/EffortJointInterface</hardwareInterface>
    </joint>
  </transmission>
  <!-- prefix can be anything but usually is "r_" or  "l_" for right and left hands distinction -->
  <gazebo reference="lh_rfdistal">
    <sensor name="lh_rfdistal_contact" type="contact">
      <always_on>1</always_on>
      <update_rate>1000.0</update_rate>
      <contact>
        <collision>lh_rfdistal_collision</collision>
        <topic>lh_rfdistal_collision</topic>
      </contact>
      <plugin filename="libgazebo_ros_bumper.so" name="lh_rfdistal_gazebo_ros_bumper_controller">
        <alwaysOn>true</alwaysOn>
        <frameName>lh_rfdistal</frameName>
        <updateRate>100.0</updateRate>
        <bumperTopicName>contacts/lh_rf/distal</bumperTopicName>
      </plugin>
    </sensor>
    <mu1 value="500.0"/>
    <mu2 value="500.0"/>
    <kp value="10000000.0"/>
    <kd value="1.0"/>
    <selfCollide>true</selfCollide>
  </gazebo>
  <link name="lh_lfmetacarpal">
    <inertial>
      <origin rpy="0 0 0" xyz="0 0 0.04"/>
      <mass value="0.030"/>
      <inertia ixx="0.0000145" ixy="0.0" ixz="0.0" iyy="0.00001638" iyz="0.0" izz="0.000004272"/>
    </inertial>
    <visual>
      <origin rpy="0 0 0" xyz="0 0 0"/>
      <geometry name="lh_lfmetacarpal_visual">
        <mesh filename="package://sr_description/hand/model/lfmetacarpal.dae" scale="-0.001 0.001 0.001"/>
      </geometry>
      <material name="Grey"/>
    </visual>
    <collision>
      <origin rpy="0 0 0" xyz="0 0 0.038"/>
      <geometry name="lh_lfmetacarpal_collision_geom">
        <box size="0.018 0.024 0.040"/>
      </geometry>
    </collision>
  </link>
  <joint name="lh_LFJ5" type="revolute">
    <parent link="lh_palm"/>
    <child link="lh_lfmetacarpal"/>
    <origin rpy="0 0 0" xyz="0.033 0 0.02071"/>
    <axis xyz="0.573576436 0 -0.819152044"/>
    <limit effort="4.0" lower="0" upper="0.785398163397" velocity="2.0"/>
    <dynamics damping="0.1"/>
  </joint>
  <gazebo reference="lh_LFJ5">
    <provideFeedback>1</provideFeedback>
    <implicitSpringDamper>1</implicitSpringDamper>
  </gazebo>
  <transmission name="lh_lfmetacarpal_transmission">
    <type>sr_mechanism_model/SimpleTransmission</type>
    <actuator name="lh_LFJ5">
      <mechanicalReduction>1</mechanicalReduction>
    </actuator>
    <joint name="lh_LFJ5">
      <hardwareInterface>hardware_interface/EffortJointInterface</hardwareInterface>
    </joint>
  </transmission>
  <!-- prefix can be anything but usually is "r_" or  "l_" for right and left hands distinction -->
  <gazebo reference="lh_lfmetacarpal">
    <sensor name="lh_lfmetacarpal_contact" type="contact">
      <always_on>1</always_on>
      <update_rate>1000.0</update_rate>
      <contact>
        <collision>lh_lfmetacarpal_collision</collision>
        <topic>lh_lfmetacarpal_collision</topic>
      </contact>
      <plugin filename="libgazebo_ros_bumper.so" name="lh_lfmetacarpal_gazebo_ros_bumper_controller">
        <alwaysOn>true</alwaysOn>
        <frameName>lh_lfmetacarpal</frameName>
        <updateRate>100.0</updateRate>
        <bumperTopicName>contacts/lh_lf/metacarpal</bumperTopicName>
      </plugin>
    </sensor>
    <selfCollide>true</selfCollide>
  </gazebo>
  <link name="lh_lfknuckle">
    <inertial>
      <origin rpy="0 0 0" xyz="0 0 0"/>
      <mass value="0.008"/>
      <inertia ixx="0.00000026" ixy="0.0" ixz="0.0" iyy="0.00000026" iyz="0.0" izz="0.00000032"/>
    </inertial>
    <visual>
      <origin rpy="0 0 0" xyz="0 0 0.0005"/>
      <geometry name="lh_lfknuckle_visual">
        <mesh filename="package://sr_description/hand/model/knuckle.dae" scale="0.001 0.001 0.001"/>
      </geometry>
      <material name="LightGrey"/>
    </visual>
    <collision>
      <origin rpy="0 1.5708 0" xyz="0 0 0"/>
      <geometry name="lh_lfknuckle_collision_geom">
        <cylinder length="0.014" radius="0.007"/>
      </geometry>
    </collision>
  </link>
  <joint name="lh_LFJ4" type="revolute">
    <parent link="lh_lfmetacarpal"/>
    <child link="lh_lfknuckle"/>
    <!--<origin xyz="0.033 0 0.095" rpy="0 0 0" />-->
    <origin rpy="0 0 0" xyz="0 0 0.06579"/>
    <axis xyz="0 -1.0 0"/>
    <limit effort="4.0" lower="-0.349065850399" upper="0.349065850399" velocity="2.0"/>
    <dynamics damping="0.1"/>
  </joint>
  <gazebo reference="lh_LFJ4">
    <provideFeedback>1</provideFeedback>
    <implicitSpringDamper>1</implicitSpringDamper>
  </gazebo>
  <transmission name="lh_lfknuckle_transmission">
    <type>sr_mechanism_model/SimpleTransmission</type>
    <actuator name="lh_LFJ4">
      <mechanicalReduction>1</mechanicalReduction>
    </actuator>
    <joint name="lh_LFJ4">
      <hardwareInterface>hardware_interface/EffortJointInterface</hardwareInterface>
    </joint>
  </transmission>
  <!-- prefix can be anything but usually is "r_" or  "l_" for right and left hands distinction -->
  <gazebo reference="lh_lfknuckle">
    <sensor name="lh_lfknuckle_contact" type="contact">
      <always_on>1</always_on>
      <update_rate>1000.0</update_rate>
      <contact>
        <collision>lh_lfknuckle_collision</collision>
        <topic>lh_lfknuckle_collision</topic>
      </contact>
      <plugin filename="libgazebo_ros_bumper.so" name="lh_lfknuckle_gazebo_ros_bumper_controller">
        <alwaysOn>true</alwaysOn>
        <frameName>lh_lfknuckle</frameName>
        <updateRate>100.0</updateRate>
        <bumperTopicName>contacts/lh_lf/knuckle</bumperTopicName>
      </plugin>
    </sensor>
    <material>Gazebo/Grey</material>
  </gazebo>
  <link name="lh_lfproximal">
    <inertial>
      <mass value="0.030"/>
      <origin xyz="0 0 0.0225"/>
      <inertia ixx="0.0000098" ixy="0.0" ixz="0.0" iyy="0.00001" iyz="0.0" izz="0.0000018"/>
    </inertial>
    <visual>
      <origin rpy="0 0 0" xyz="0 0 0"/>
      <geometry name="lh_lfproximal_visual">
        <mesh filename="package://sr_description/hand/model/F3.dae" scale="0.001 0.001 0.001"/>
      </geometry>
      <material name="Grey"/>
    </visual>
    <collision>
      <origin rpy="0 0 0" xyz="0 0 0.025"/>
      <geometry name="lh_lfproximal_collision_geom">
        <cylinder length="0.040" radius="0.007"/>
      </geometry>
    </collision>
  </link>
  <joint name="lh_LFJ3" type="revolute">
    <parent link="lh_lfknuckle"/>
    <child link="lh_lfproximal"/>
    <origin rpy="0 0 0" xyz="0 0 0"/>
    <axis xyz="1 0 0"/>
    <limit effort="4.0" lower="0" upper="1.57079632679" velocity="2.0"/>
    <dynamics damping="0.1"/>
  </joint>
  <gazebo reference="lh_LFJ3">
    <provideFeedback>1</provideFeedback>
    <implicitSpringDamper>1</implicitSpringDamper>
  </gazebo>
  <transmission name="lh_lfproximal_transmission">
    <type>sr_mechanism_model/SimpleTransmission</type>
    <actuator name="lh_LFJ3">
      <mechanicalReduction>1</mechanicalReduction>
    </actuator>
    <joint name="lh_LFJ3">
      <hardwareInterface>hardware_interface/EffortJointInterface</hardwareInterface>
    </joint>
  </transmission>
  <!-- prefix can be anything but usually is "r_" or  "l_" for right and left hands distinction -->
  <gazebo reference="lh_lfproximal">
    <sensor name="lh_lfproximal_contact" type="contact">
      <always_on>1</always_on>
      <update_rate>1000.0</update_rate>
      <contact>
        <collision>lh_lfproximal_collision</collision>
        <topic>lh_lfproximal_collision</topic>
      </contact>
      <plugin filename="libgazebo_ros_bumper.so" name="lh_lfproximal_gazebo_ros_bumper_controller">
        <alwaysOn>true</alwaysOn>
        <frameName>lh_lfproximal</frameName>
        <updateRate>100.0</updateRate>
        <bumperTopicName>contacts/lh_lf/proximal</bumperTopicName>
      </plugin>
    </sensor>
    <selfCollide>true</selfCollide>
  </gazebo>
  <link name="lh_lfmiddle">
    <inertial>
      <origin rpy="0 0 0" xyz="0 0 0.0125"/>
      <mass value="0.017"/>
      <inertia ixx="0.0000026" ixy="0.0" ixz="0.0" iyy="0.0000027" iyz="0.0" izz="0.00000087"/>
    </inertial>
    <visual>
      <origin rpy="0 0 0" xyz="0 0 0"/>
      <geometry name="lh_lfmiddle_visual">
        <mesh filename="package://sr_description/hand/model/F2.dae" scale="0.001 0.001 0.001"/>
      </geometry>
      <material name="Grey"/>
    </visual>
    <collision>
      <origin rpy="0 0 0" xyz="0 0 0.0125"/>
      <geometry name="lh_lfmiddle_collision_geom">
        <cylinder length="0.025" radius="0.007"/>
      </geometry>
    </collision>
    <collision>
      <origin rpy="0 0 0" xyz="0 0 0.0"/>
      <geometry>
        <sphere radius="0.007"/>
      </geometry>
    </collision>
    <collision>
      <origin rpy="0 0 0" xyz="0 0 0.025"/>
      <geometry>
        <sphere radius="0.007"/>
      </geometry>
    </collision>
  </link>
  <joint name="lh_LFJ2" type="revolute">
    <parent link="lh_lfproximal"/>
    <child link="lh_lfmiddle"/>
    <origin rpy="0 0 0" xyz="0 0 0.045"/>
    <axis xyz="1 0 0"/>
    <limit effort="4.0" lower="0" upper="1.57079632679" velocity="2.0"/>
    <dynamics damping="0.1"/>
  </joint>
  <gazebo reference="lh_LFJ2">
    <provideFeedback>1</provideFeedback>
    <implicitSpringDamper>1</implicitSpringDamper>
  </gazebo>
  <transmission name="lh_lfmiddle_transmission">
    <type>sr_mechanism_model/SimpleTransmission</type>
    <actuator name="lh_LFJ2">
      <mechanicalReduction>1</mechanicalReduction>
    </actuator>
    <joint name="lh_LFJ2">
      <hardwareInterface>hardware_interface/EffortJointInterface</hardwareInterface>
    </joint>
    <!-- <secondJoint name="${prefix}${joint_prefix}J2"/> -->
  </transmission>
  <!-- prefix can be anything but usually is "r_" or  "l_" for right and left hands distinction -->
  <gazebo reference="lh_lfmiddle">
    <sensor name="lh_lfmiddle_contact" type="contact">
      <always_on>1</always_on>
      <update_rate>1000.0</update_rate>
      <contact>
        <collision>lh_lfmiddle_collision</collision>
        <topic>lh_lfmiddle_collision</topic>
      </contact>
      <plugin filename="libgazebo_ros_bumper.so" name="lh_lfproximal_gazebo_ros_bumper_controller">
        <alwaysOn>true</alwaysOn>
        <frameName>lh_lfmiddle</frameName>
        <updateRate>100.0</updateRate>
        <bumperTopicName>contacts/lh_lf/middle</bumperTopicName>
      </plugin>
    </sensor>
    <selfCollide>true</selfCollide>
  </gazebo>
  <link name="lh_lfdistal">
    <inertial>
      <mass value="0.012"/>
      <origin xyz="0 0 0.012"/>
      <inertia ixx="0.00000094" ixy="0.0" ixz="0.0" iyy="0.0000011" iyz="0.0" izz="0.00000053"/>
    </inertial>
    <visual>
      <origin rpy="0 0 0" xyz="0 0 0"/>
      <geometry name="lh_lfdistal_visual">
        <!-- Standard distal  -->
        <mesh filename="package://sr_description/hand/model/F1.dae" scale="0.001 0.001 0.001"/>
      </geometry>
      <material name="Grey"/>
    </visual>
    <collision>
      <origin rpy="0 0 0" xyz="0 0 0"/>
      <geometry name="lh_lfdistal_collision_geom">
        <!-- Standard distal  -->
        <mesh filename="package://sr_description/hand/model/F1.dae" scale="0.001 0.001 0.001"/>
      </geometry>
    </collision>
  </link>
  <joint name="lh_LFJ1" type="revolute">
    <parent link="lh_lfmiddle"/>
    <child link="lh_lfdistal"/>
    <origin rpy="0 0 0" xyz="0 0 0.025"/>
    <axis xyz="1 0 0"/>
    <!-- standard distal joint -->
    <limit effort="4.0" lower="0" upper="1.57079632679" velocity="2.0"/>
    <dynamics damping="0.1"/>
  </joint>
  <gazebo reference="lh_LFJ1">
    <provideFeedback>1</provideFeedback>
    <implicitSpringDamper>1</implicitSpringDamper>
  </gazebo>
  <link name="lh_lftip">
    <inertial>
      <mass value="0.001"/>
      <inertia ixx="0.0" ixy="0.0" ixz="0.0" iyy="0.0" iyz="0.0" izz="0.0"/>
    </inertial>
  </link>
  <joint name="lh_LFtip" type="fixed">
    <parent link="lh_lfdistal"/>
    <child link="lh_lftip"/>
    <origin rpy="0 0 0" xyz="0 0 0.026"/>
  </joint>
  <transmission name="lh_lfdistal_transmission">
    <type>sr_mechanism_model/SimpleTransmission</type>
    <actuator name="lh_LFJ1">
      <mechanicalReduction>1</mechanicalReduction>
    </actuator>
    <joint name="lh_LFJ1">
      <hardwareInterface>hardware_interface/EffortJointInterface</hardwareInterface>
    </joint>
  </transmission>
  <!-- prefix can be anything but usually is "r_" or  "l_" for right and left hands distinction -->
  <gazebo reference="lh_lfdistal">
    <sensor name="lh_lfdistal_contact" type="contact">
      <always_on>1</always_on>
      <update_rate>1000.0</update_rate>
      <contact>
        <collision>lh_lfdistal_collision</collision>
        <topic>lh_lfdistal_collision</topic>
      </contact>
      <plugin filename="libgazebo_ros_bumper.so" name="lh_lfdistal_gazebo_ros_bumper_controller">
        <alwaysOn>true</alwaysOn>
        <frameName>lh_lfdistal</frameName>
        <updateRate>100.0</updateRate>
        <bumperTopicName>contacts/lh_lf/distal</bumperTopicName>
      </plugin>
    </sensor>
    <mu1 value="500.0"/>
    <mu2 value="500.0"/>
    <kp value="10000000.0"/>
    <kd value="1.0"/>
    <selfCollide>true</selfCollide>
  </gazebo>
  <link name="lh_thbase">
    <inertial>
      <mass value="0.010"/>
      <origin rpy="0 0 0" xyz="0 0 0"/>
      <inertia ixx="0.00000016" ixy="0.0" ixz="0.0" iyy="0.00000016" iyz="0.0" izz="0.00000016"/>
    </inertial>
    <visual>
      <origin rpy="0 0 0" xyz="0 0 0"/>
      <geometry name="lh_thbase_visual">
        <box size="0.001 0.001 0.001"/>
      </geometry>
      <material name="shadow_thbase_material">
        <color rgba="0.5 0.5 0.5 1.0"/>
      </material>
    </visual>
    <collision>
      <origin rpy="0 0 0" xyz="0 0 0"/>
      <geometry name="lh_thbase_collision_geom">
        <sphere radius="0.011"/>
      </geometry>
    </collision>
  </link>
  <joint name="lh_THJ5" type="revolute">
    <parent link="lh_palm"/>
    <child link="lh_thbase"/>
    <origin rpy="0 0.785398163397 3.14159265359" xyz="-0.034 -0.0085 0.029"/>
    <axis xyz="0 0 1.0"/>
    <limit effort="4.0" lower="-1.0471975512" upper="1.0471975512" velocity="4.0"/>
    <dynamics damping="0.2"/>
  </joint>
  <gazebo reference="lh_THJ5">
    <provideFeedback>1</provideFeedback>
    <implicitSpringDamper>1</implicitSpringDamper>
  </gazebo>
  <transmission name="lh_thbase_transmission">
    <type>sr_mechanism_model/SimpleTransmission</type>
    <actuator name="lh_THJ5">
      <mechanicalReduction>1</mechanicalReduction>
    </actuator>
    <joint name="lh_THJ5">
      <hardwareInterface>hardware_interface/EffortJointInterface</hardwareInterface>
    </joint>
  </transmission>
  <!-- prefix can be anything but usually is "r_" or  "l_" for right and left hands distinction -->
  <gazebo reference="lh_thbase">
    <sensor name="lh_thbase_contact" type="contact">
      <always_on>1</always_on>
      <update_rate>1000.0</update_rate>
      <contact>
        <collision>lh_thbase_collision</collision>
        <topic>lh_thbase_collision</topic>
      </contact>
      <plugin filename="libgazebo_ros_bumper.so" name="lh_thbase_gazebo_ros_bumper_controller">
        <alwaysOn>true</alwaysOn>
        <frameName>lh_thbase</frameName>
        <updateRate>100.0</updateRate>
        <bumperTopicName>contacts/lh_th/base</bumperTopicName>
      </plugin>
    </sensor>
    <selfCollide>false</selfCollide>
  </gazebo>
  <link name="lh_thproximal">
    <inertial>
      <mass value="0.040"/>
      <origin rpy="0 0 0" xyz="0 0 0.019"/>
      <inertia ixx="0.0000136" ixy="0.0" ixz="0.0" iyy="0.0000136" iyz="0.0" izz="0.00000313"/>
    </inertial>
    <visual>
      <origin rpy="0 0 0" xyz="0 0 0"/>
      <geometry name="lh_thproximal_visual">
        <mesh filename="package://sr_description/hand/model/TH3_z.dae" scale="0.001 0.001 0.001"/>
      </geometry>
      <material name="shadow_thproximal_material">
        <color rgba="0.2 0.2 0.2 1.0"/>
      </material>
    </visual>
    <collision>
      <origin rpy="0 0 0" xyz="0 0 0.020"/>
      <geometry name="lh_thproximal_collision_geom">
        <cylinder length="0.018" radius="0.012"/>
      </geometry>
    </collision>
  </link>
  <joint name="lh_THJ4" type="revolute">
    <parent link="lh_thbase"/>
    <child link="lh_thproximal"/>
    <origin rpy="0 0 0" xyz="0 0 0"/>
    <axis xyz="-1.0 0 0"/>
    <limit effort="4.0" lower="0.0" upper="1.2217304764" velocity="4.0"/>
    <dynamics damping="0.2"/>
  </joint>
  <gazebo reference="lh_THJ4">
    <provideFeedback>1</provideFeedback>
    <implicitSpringDamper>1</implicitSpringDamper>
  </gazebo>
  <transmission name="lh_thproximal_transmission">
    <type>sr_mechanism_model/SimpleTransmission</type>
    <actuator name="lh_THJ4">
      <mechanicalReduction>1</mechanicalReduction>
    </actuator>
    <joint name="lh_THJ4">
      <hardwareInterface>hardware_interface/EffortJointInterface</hardwareInterface>
    </joint>
  </transmission>
  <!-- prefix can be anything but usually is "r_" or  "l_" for right and left hands distinction -->
  <gazebo reference="lh_thproximal">
    <sensor name="lh_thproximal_contact" type="contact">
      <always_on>1</always_on>
      <update_rate>1000.0</update_rate>
      <contact>
        <collision>lh_thproximal_collision</collision>
        <topic>lh_thproximal_collision</topic>
      </contact>
      <plugin filename="libgazebo_ros_bumper.so" name="lh_thproximal_gazebo_ros_bumper_controller">
        <alwaysOn>true</alwaysOn>
        <frameName>lh_thproximal</frameName>
        <updateRate>100.0</updateRate>
        <bumperTopicName>contacts/lh_th/proximal</bumperTopicName>
      </plugin>
    </sensor>
    <selfCollide>false</selfCollide>
  </gazebo>
  <link name="lh_thhub">
    <inertial>
      <mass value="0.005"/>
      <origin rpy="0 0 0" xyz="0 0 0"/>
      <inertia ixx="0.000001" ixy="0.0" ixz="0.0" iyy="0.000001" iyz="0.0" izz="0.0000003"/>
    </inertial>
    <visual>
      <origin rpy="0 0 0" xyz="0 0 0"/>
      <geometry name="lh_thhub_visual">
        <box size="0.001 0.001 0.001"/>
      </geometry>
      <material name="shadow_thhub_material">
        <color rgba="0.7 0.7 0.7 1.0"/>
      </material>
    </visual>
    <collision>
      <origin rpy="0 0 0" xyz="0 0 0"/>
      <geometry name="lh_thhub_collision_geom">
        <sphere radius="0.010"/>
      </geometry>
    </collision>
  </link>
  <joint name="lh_THJ3" type="revolute">
    <parent link="lh_thproximal"/>
    <child link="lh_thhub"/>
    <origin rpy="0 0 0" xyz="0 0 0.038"/>
    <axis xyz="1 0 0"/>
    <limit effort="4.0" lower="-0.209439510239" upper="0.209439510239" velocity="4.0"/>
    <dynamics damping="0.2"/>
  </joint>
  <gazebo reference="lh_THJ3">
    <provideFeedback>1</provideFeedback>
    <implicitSpringDamper>1</implicitSpringDamper>
  </gazebo>
  <transmission name="lh_thhub_transmission">
    <type>sr_mechanism_model/SimpleTransmission</type>
    <actuator name="lh_THJ3">
      <mechanicalReduction>1</mechanicalReduction>
    </actuator>
    <joint name="lh_THJ3">
      <hardwareInterface>hardware_interface/EffortJointInterface</hardwareInterface>
    </joint>
  </transmission>
  <!-- prefix can be anything but usually is "r_" or  "l_" for right and left hands distinction -->
  <gazebo reference="lh_thhub">
    <sensor name="lh_thhub_contact" type="contact">
      <always_on>1</always_on>
      <update_rate>1000.0</update_rate>
      <contact>
        <collision>lh_thhub_collision</collision>
        <topic>lh_thhub_collision</topic>
      </contact>
      <plugin filename="libgazebo_ros_bumper.so" name="lh_thhub_gazebo_ros_bumper_controller">
        <alwaysOn>true</alwaysOn>
        <frameName>lh_thhub</frameName>
        <updateRate>100.0</updateRate>
        <bumperTopicName>contacts/lh_th/hub</bumperTopicName>
      </plugin>
    </sensor>
    <selfCollide>true</selfCollide>
  </gazebo>
  <link name="lh_thmiddle">
    <inertial>
      <mass value="0.020"/>
      <origin rpy="0 0 0" xyz="0 0 0.016"/>
      <inertia ixx="0.0000051" ixy="0.0" ixz="0.0" iyy="0.0000051" iyz="0.0" izz="0.00000121"/>
    </inertial>
    <visual>
      <origin rpy="0 0 0" xyz="0 0 0"/>
      <geometry name="lh_thmiddle_visual">
        <mesh filename="package://sr_description/hand/model/TH2_z.dae" scale="0.001 0.001 0.001"/>
      </geometry>
      <material name="shadow_thmiddle_material">
        <color rgba="0.2 0.2 0.2 1.0"/>
      </material>
    </visual>
    <collision>
      <origin rpy="0 0 0" xyz="0 0 0.012"/>
      <geometry name="lh_thmiddle_collision_geom">
        <cylinder length="0.018" radius="0.011"/>
      </geometry>
    </collision>
    <collision>
      <origin rpy="0 0 0" xyz="0 0 0.019"/>
      <geometry>
        <sphere radius="0.011"/>
      </geometry>
    </collision>
  </link>
  <joint name="lh_THJ2" type="revolute">
    <parent link="lh_thhub"/>
    <child link="lh_thmiddle"/>
    <origin rpy="0 0 0" xyz="0 0 0"/>
    <axis xyz="0 -1 0"/>
    <limit effort="4.0" lower="-0.698131700798" upper="0.698131700798" velocity="2.0"/>
    <dynamics damping="0.1"/>
  </joint>
  <gazebo reference="lh_THJ2">
    <provideFeedback>1</provideFeedback>
    <implicitSpringDamper>1</implicitSpringDamper>
  </gazebo>
  <transmission name="lh_thmiddle_transmission">
    <type>sr_mechanism_model/SimpleTransmission</type>
    <actuator name="lh_THJ2">
      <mechanicalReduction>1</mechanicalReduction>
    </actuator>
    <joint name="lh_THJ2">
      <hardwareInterface>hardware_interface/EffortJointInterface</hardwareInterface>
    </joint>
  </transmission>
  <!-- prefix can be anything but usually is "r_" or  "l_" for right and left hands distinction -->
  <gazebo reference="lh_thmiddle">
    <sensor name="lh_thmiddle_contact" type="contact">
      <always_on>1</always_on>
      <update_rate>1000.0</update_rate>
      <contact>
        <collision>lh_thmiddle_collision</collision>
        <topic>lh_thmiddle_collision</topic>
      </contact>
      <plugin filename="libgazebo_ros_bumper.so" name="lh_thmiddle_gazebo_ros_bumper_controller">
        <alwaysOn>true</alwaysOn>
        <frameName>lh_thmiddle</frameName>
        <updateRate>100.0</updateRate>
        <bumperTopicName>contacts/lh_th/middle</bumperTopicName>
      </plugin>
    </sensor>
    <selfCollide>true</selfCollide>
  </gazebo>
  <!-- common -->
  <link name="lh_thdistal">
    <inertial>
      <mass value="0.016"/>
      <origin rpy="0 0 0" xyz="0 0 0.01375"/>
      <inertia ixx="0.0000021" ixy="0.0" ixz="0.0" iyy="0.0000022" iyz="0.0" izz="0.000001"/>
    </inertial>
    <visual>
      <origin rpy="0 0 0" xyz="0 0 0"/>
      <geometry name="lh_thdistal_visual">
        <!-- Standard distal  -->
        <mesh filename="package://sr_description/hand/model/TH1_z.dae" scale="0.001 0.001 0.001"/>
      </geometry>
      <material name="shadow_thmiddle_material">
        <color rgba="0.2 0.2 0.2 1.0"/>
      </material>
    </visual>
    <collision>
      <origin rpy="0 0 0" xyz="0 0 0"/>
      <geometry name="lh_thmiddle_collision_geom">
        <!-- Standard distal  -->
        <mesh filename="package://sr_description/hand/model/TH1_z.dae" scale="0.001 0.001 0.001"/>
        <!--      <box size="0.015 0.015 0.015" /> -->
      </geometry>
    </collision>
  </link>
  <joint name="lh_THJ1" type="revolute">
    <parent link="lh_thmiddle"/>
    <child link="lh_thdistal"/>
    <origin rpy="0 0 -1.57079632679" xyz="0 0 0.032"/>
    <axis xyz="1 0 0"/>
    <limit effort="4.0" lower="0" upper="1.57079632679" velocity="4.0"/>
    <dynamics damping="0.2"/>
  </joint>
  <gazebo reference="lh_THJ1">
    <provideFeedback>1</provideFeedback>
    <implicitSpringDamper>1</implicitSpringDamper>
  </gazebo>
  <link name="lh_thtip">
    <inertial>
      <mass value="0.001"/>
      <inertia ixx="0.0" ixy="0.0" ixz="0.0" iyy="0.0" iyz="0.0" izz="0.0"/>
    </inertial>
  </link>
  <joint name="lh_thtip" type="fixed">
    <parent link="lh_thdistal"/>
    <child link="lh_thtip"/>
    <origin rpy="0 0 0" xyz="0 0 0.0275"/>
  </joint>
  <!-- prefix can be anything but usually is "r_" or  "l_" for right and left hands distinction -->
  <gazebo reference="lh_thdistal">
    <sensor name="lh_thdistal_contact" type="contact">
      <always_on>1</always_on>
      <update_rate>1000.0</update_rate>
      <contact>
        <collision>lh_thdistal_collision</collision>
        <topic>lh_thdistal_collision</topic>
      </contact>
      <plugin filename="libgazebo_ros_bumper.so" name="lh_thdistal_gazebo_ros_bumper_controller">
        <alwaysOn>true</alwaysOn>
        <frameName>lh_thdistal</frameName>
        <updateRate>100.0</updateRate>
        <bumperTopicName>contacts/lh_th/distal</bumperTopicName>
      </plugin>
    </sensor>
    <mu1 value="500.0"/>
    <mu2 value="500.0"/>
    <kp value="10000000.0"/>
    <kd value="1.0"/>
    <selfCollide>true</selfCollide>
  </gazebo>
  <transmission name="lh_thdistal_transmission">
    <type>sr_mechanism_model/SimpleTransmission</type>
    <actuator name="lh_THJ1">
      <mechanicalReduction>1</mechanicalReduction>
    </actuator>
    <joint name="lh_THJ1">
      <hardwareInterface>hardware_interface/EffortJointInterface</hardwareInterface>
    </joint>
  </transmission>
</robot>
